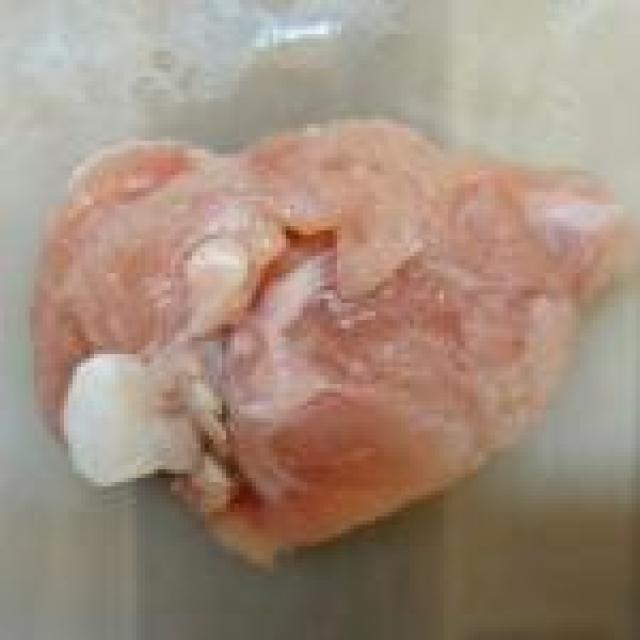breast: (33, 124, 612, 540)
